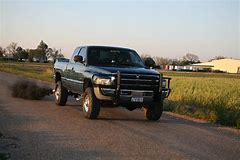smoke: (9, 78, 52, 100)
